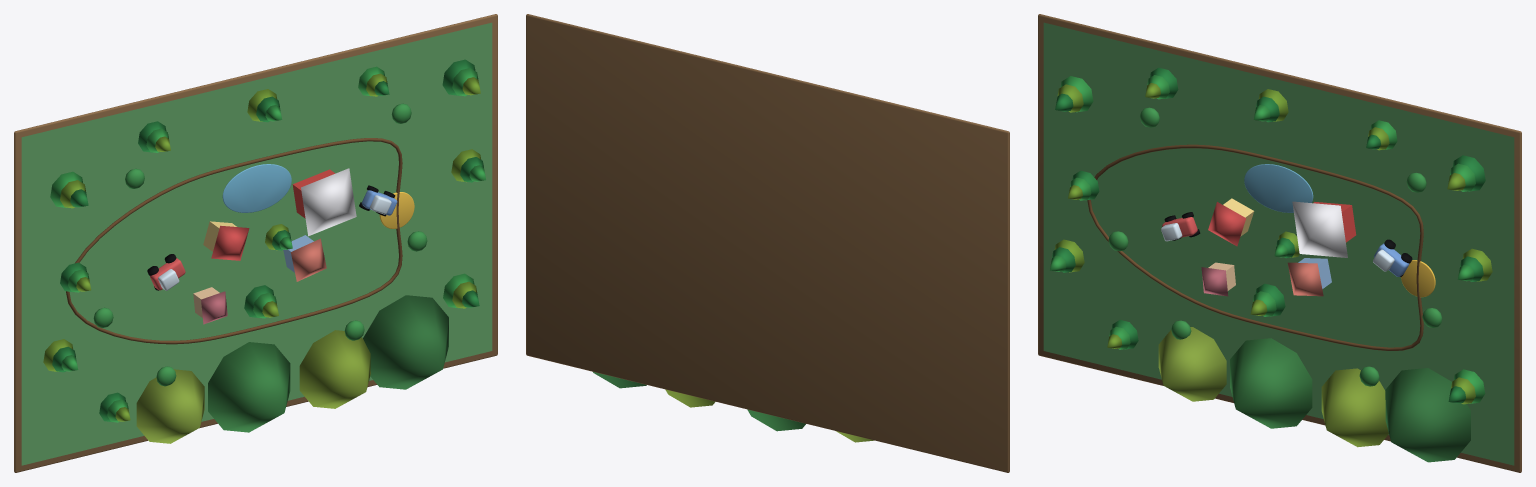
The model's file is carthabot_map_adventure.obj.
The picture shows the model from 3 angles, left to right: view 1: azimuth 30°, elevation 25°; view 2: azimuth 150°, elevation 25°; view 3: azimuth 330°, elevation 25°; orthographic projection.
Parts seen in each view (by area): view 1: PlayMat, MatRim, Cone, Cone.002, Cone.001, Cone.003, LineLoop, Cone.007, Cylinder, Cone.005, Cone.004, StartPad (+2 smaller); view 2: MatRim, Cone.002; view 3: PlayMat, MatRim, Cone, Cone.002, Cone.001, Cone.003, LineLoop, Cone.007, Cylinder, Cone.004, Cone.005, StartPad (+1 smaller).
Part boxes in pixels (x1,y1,x2,y2): PlayMat: (21,22,492,465); MatRim: (14,14,497,472); Cone: (363,295,448,389); Cone.002: (208,342,290,432); Cone.001: (299,330,370,408); Cone.003: (136,369,204,443); LineLoop: (66,138,402,344); Cone.007: (301,168,356,236); Cylinder: (222,164,291,212); Cone.005: (211,225,249,260); Cone.004: (291,238,326,281); StartPad: (379,192,414,228); MatRim: (526,14,1009,472); Cone.002: (747,409,805,431); PlayMat: (1043,22,1514,465); MatRim: (1038,14,1521,472); Cone: (1385,368,1470,462); Cone.002: (1230,338,1312,428); Cone.001: (1321,368,1388,447); Cone.003: (1158,327,1226,401); LineLoop: (1087,144,1423,350); Cone.007: (1292,201,1347,257); Cylinder: (1244,164,1313,212); Cone.004: (1287,262,1323,296); Cone.005: (1208,202,1245,246); StartPad: (1401,260,1435,297).
Bounding box in the file's own units: 30.8 × 21.76 × 4.27.
